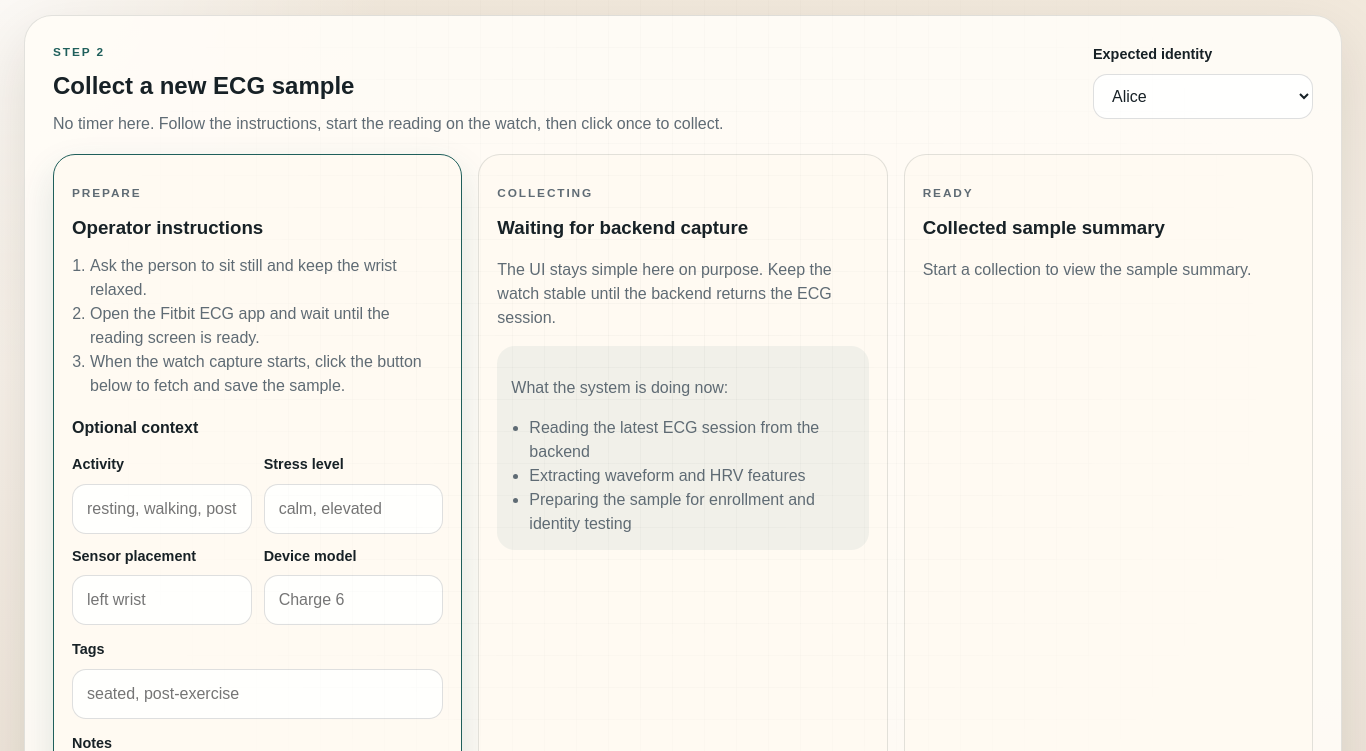
Test: EnrollmentWizard › runs collection and shows summary
Type "resting" into the field with placeholder "resting, walking, post-run".
click(162, 509); type("resting")  # box [72,484,252,534]
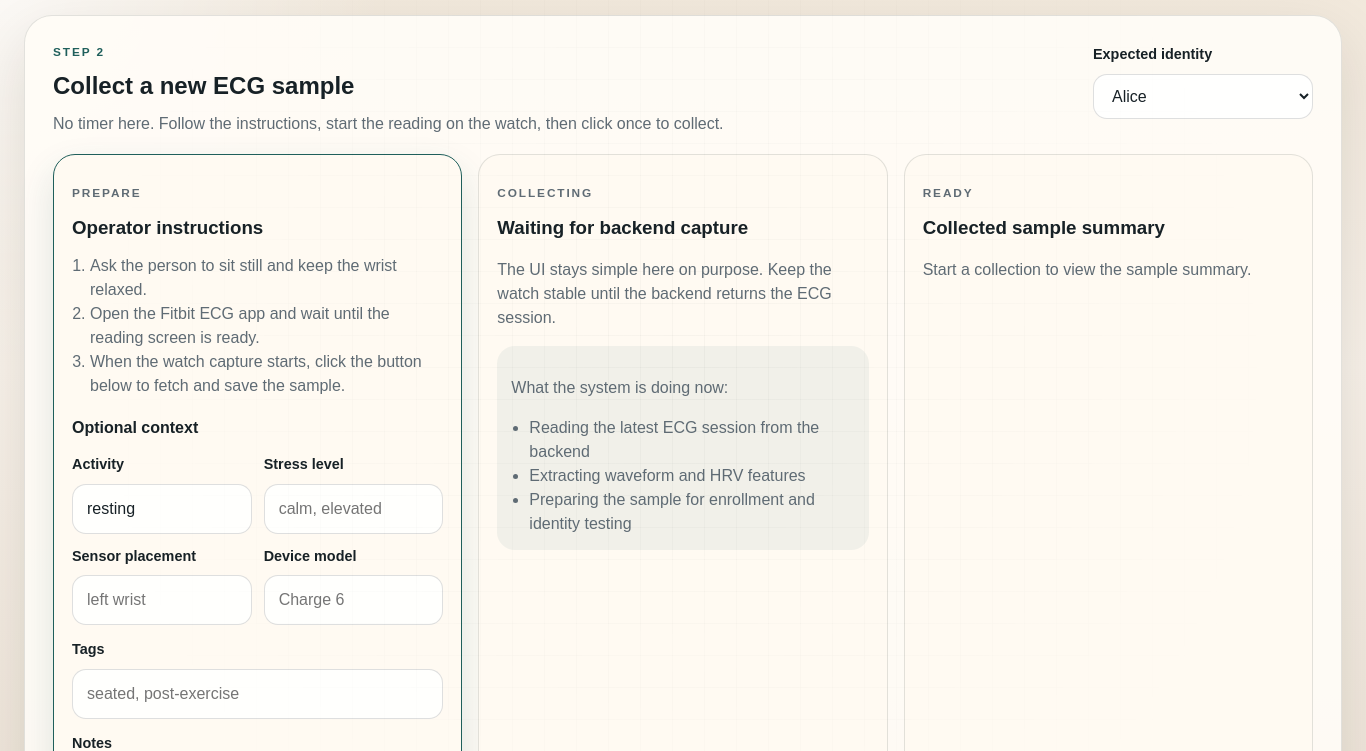
Type "seated,morning" into the field with placeholder "seated, post-exercise".
click(258, 694); type("seated,morning")  # box [72,669,443,719]
(page scrolled)
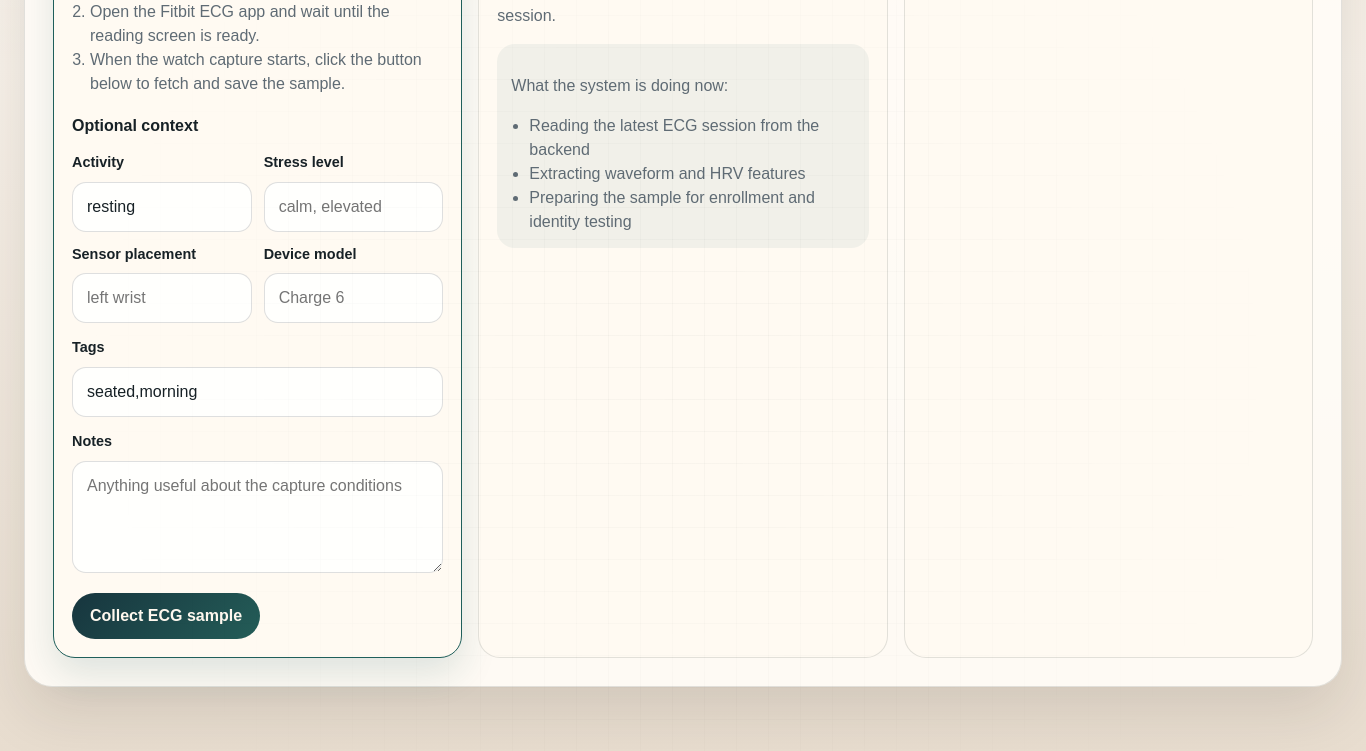
Click the button "Collect ECG sample".
click(166, 616)  # box [72,593,260,639]
(page scrolled)
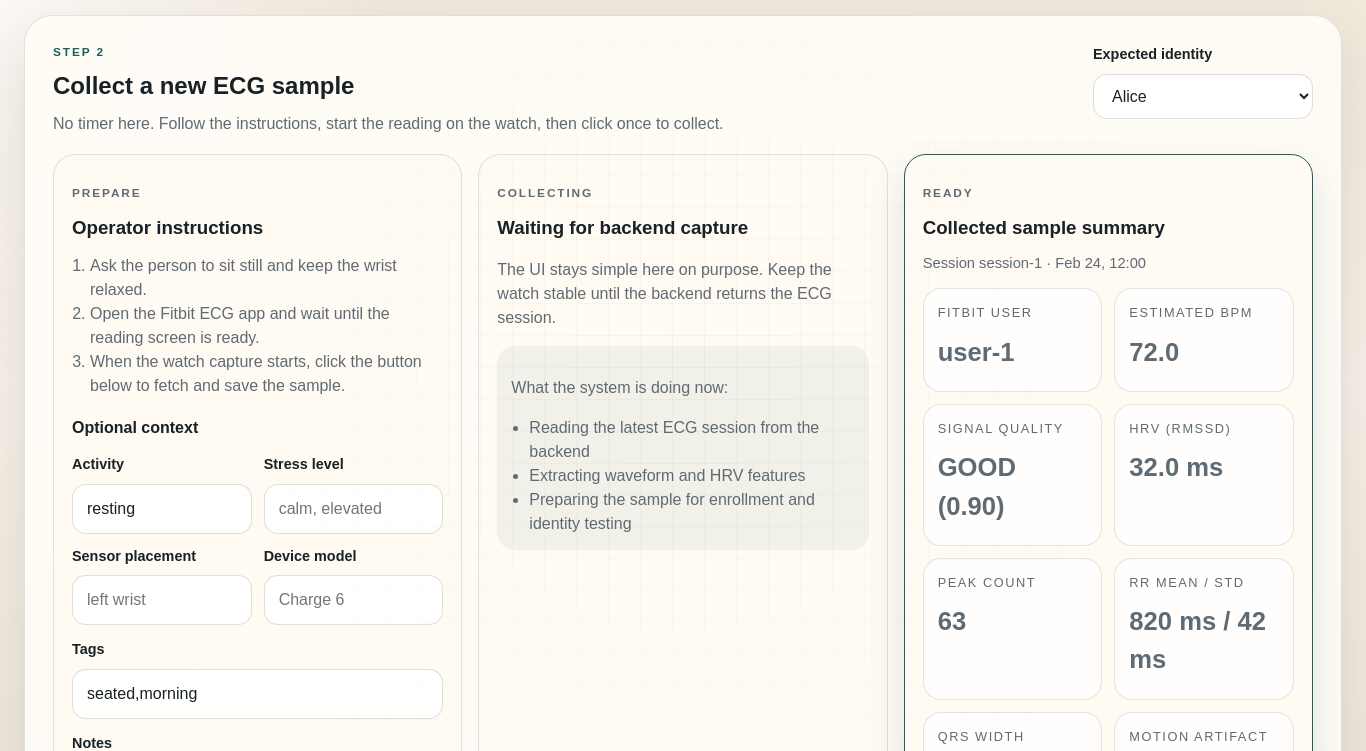
Check: the heading "Collected sample summary" is shown, box [923,217,1165,238]
Check: the text "session-1" is shown, box [979,255,1042,271]
